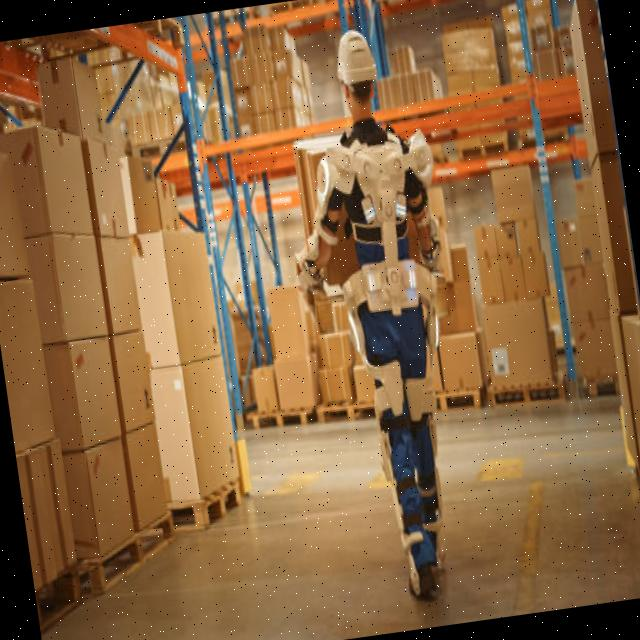Wooden-Pallets: (88, 500, 185, 602), (196, 472, 252, 539), (491, 380, 565, 413), (461, 134, 518, 170), (249, 411, 307, 429)
